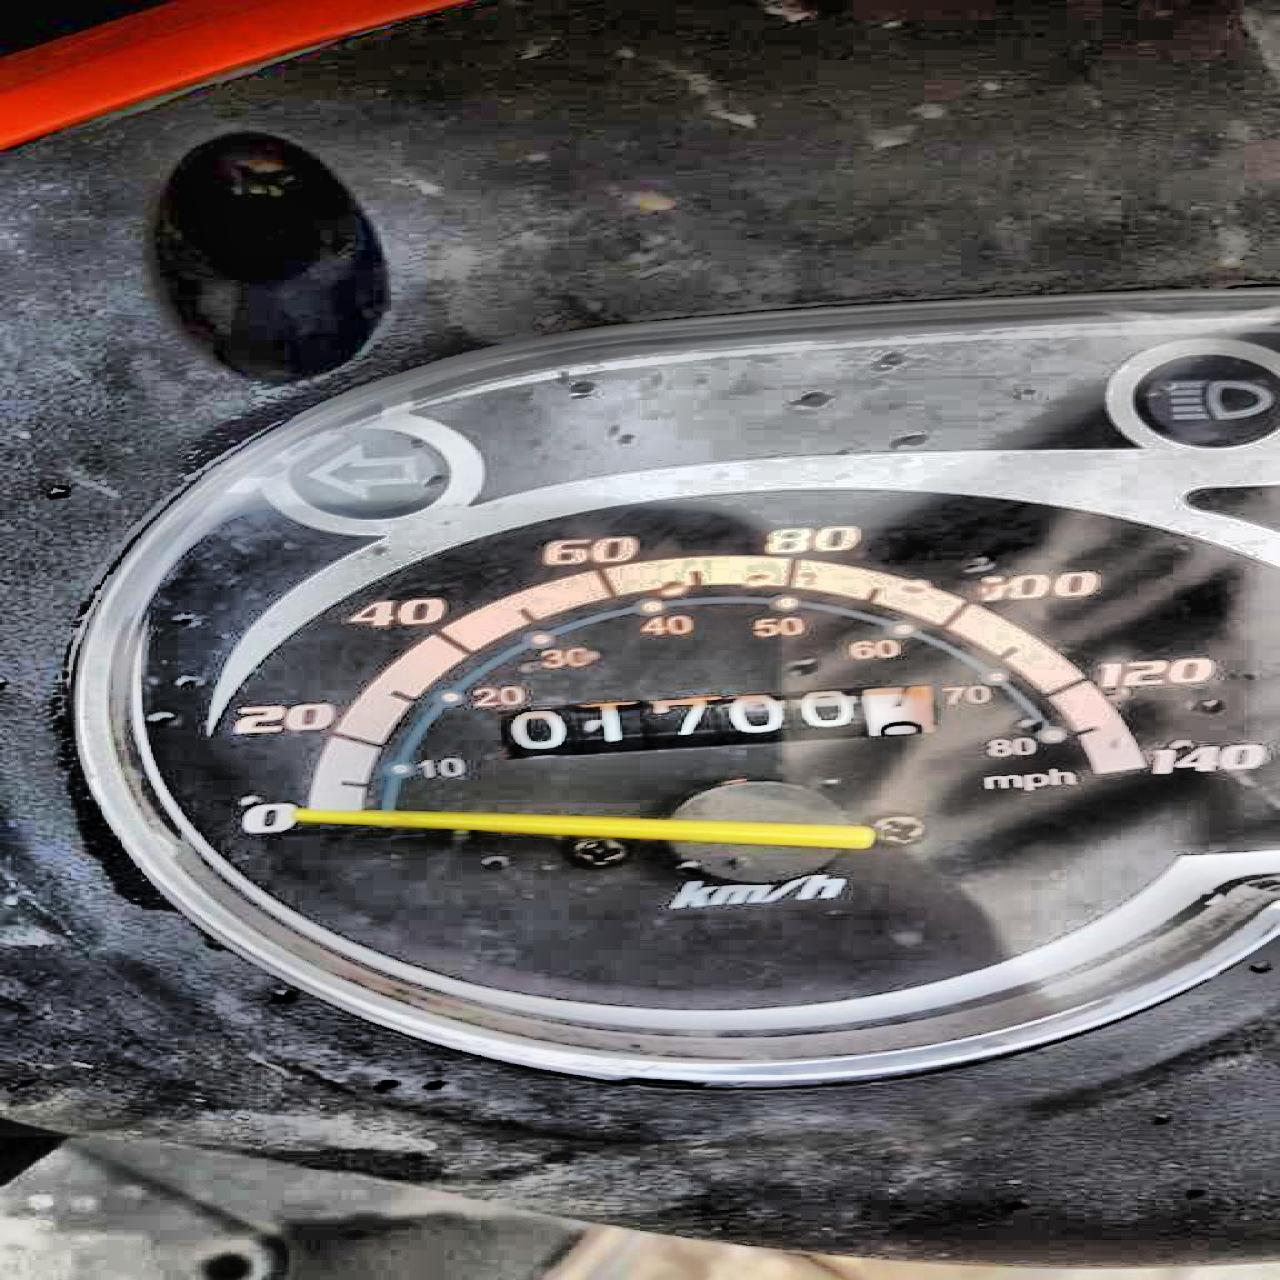0: (722, 693, 787, 735), (504, 710, 566, 753), (798, 688, 853, 729), (496, 686, 526, 706)
1: (593, 693, 635, 751)
7: (652, 695, 707, 740), (873, 685, 918, 714)
odometer: (489, 681, 947, 764)
